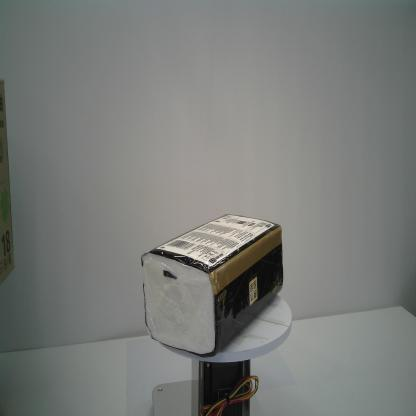Tissue: (140, 213, 284, 358)
